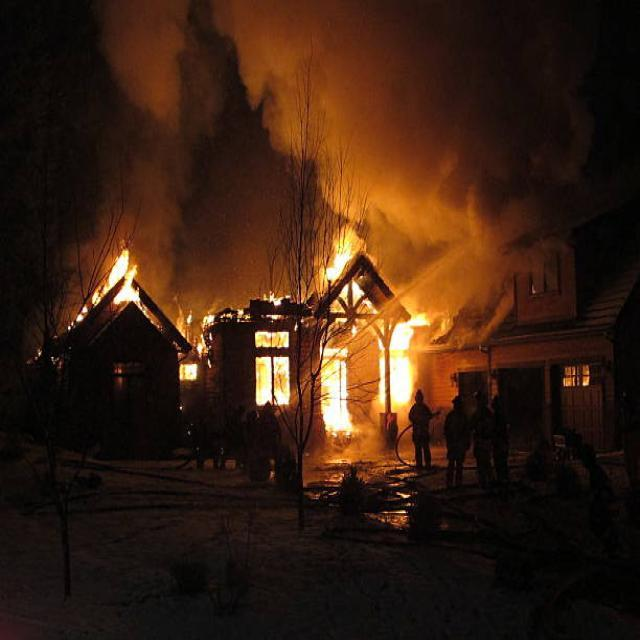Fire: (316, 218, 378, 305), (379, 312, 424, 410), (247, 314, 290, 412), (318, 343, 359, 441), (86, 244, 145, 309), (175, 354, 203, 388)
Smoke: (210, 0, 605, 322)
